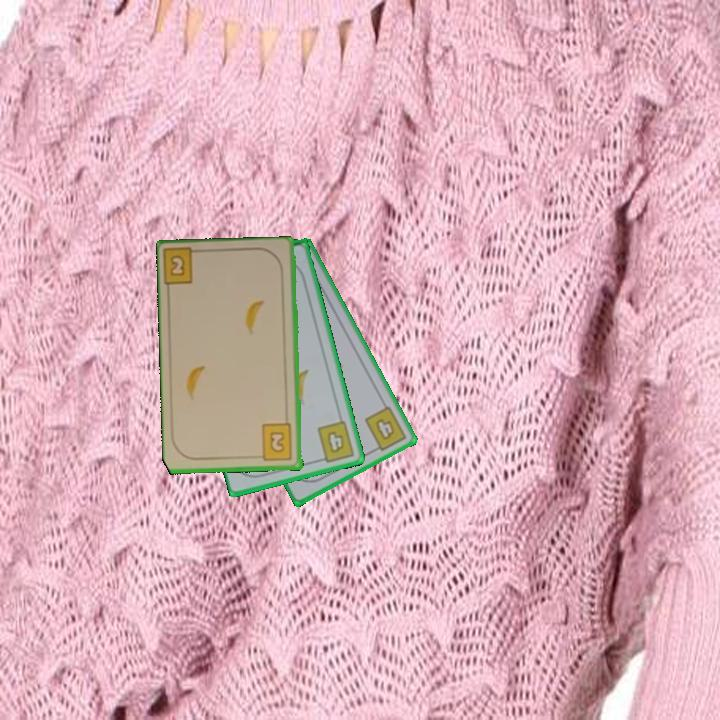2b: (162, 247, 206, 289), (253, 421, 295, 463)
4b: (361, 403, 410, 456), (314, 417, 358, 465)
